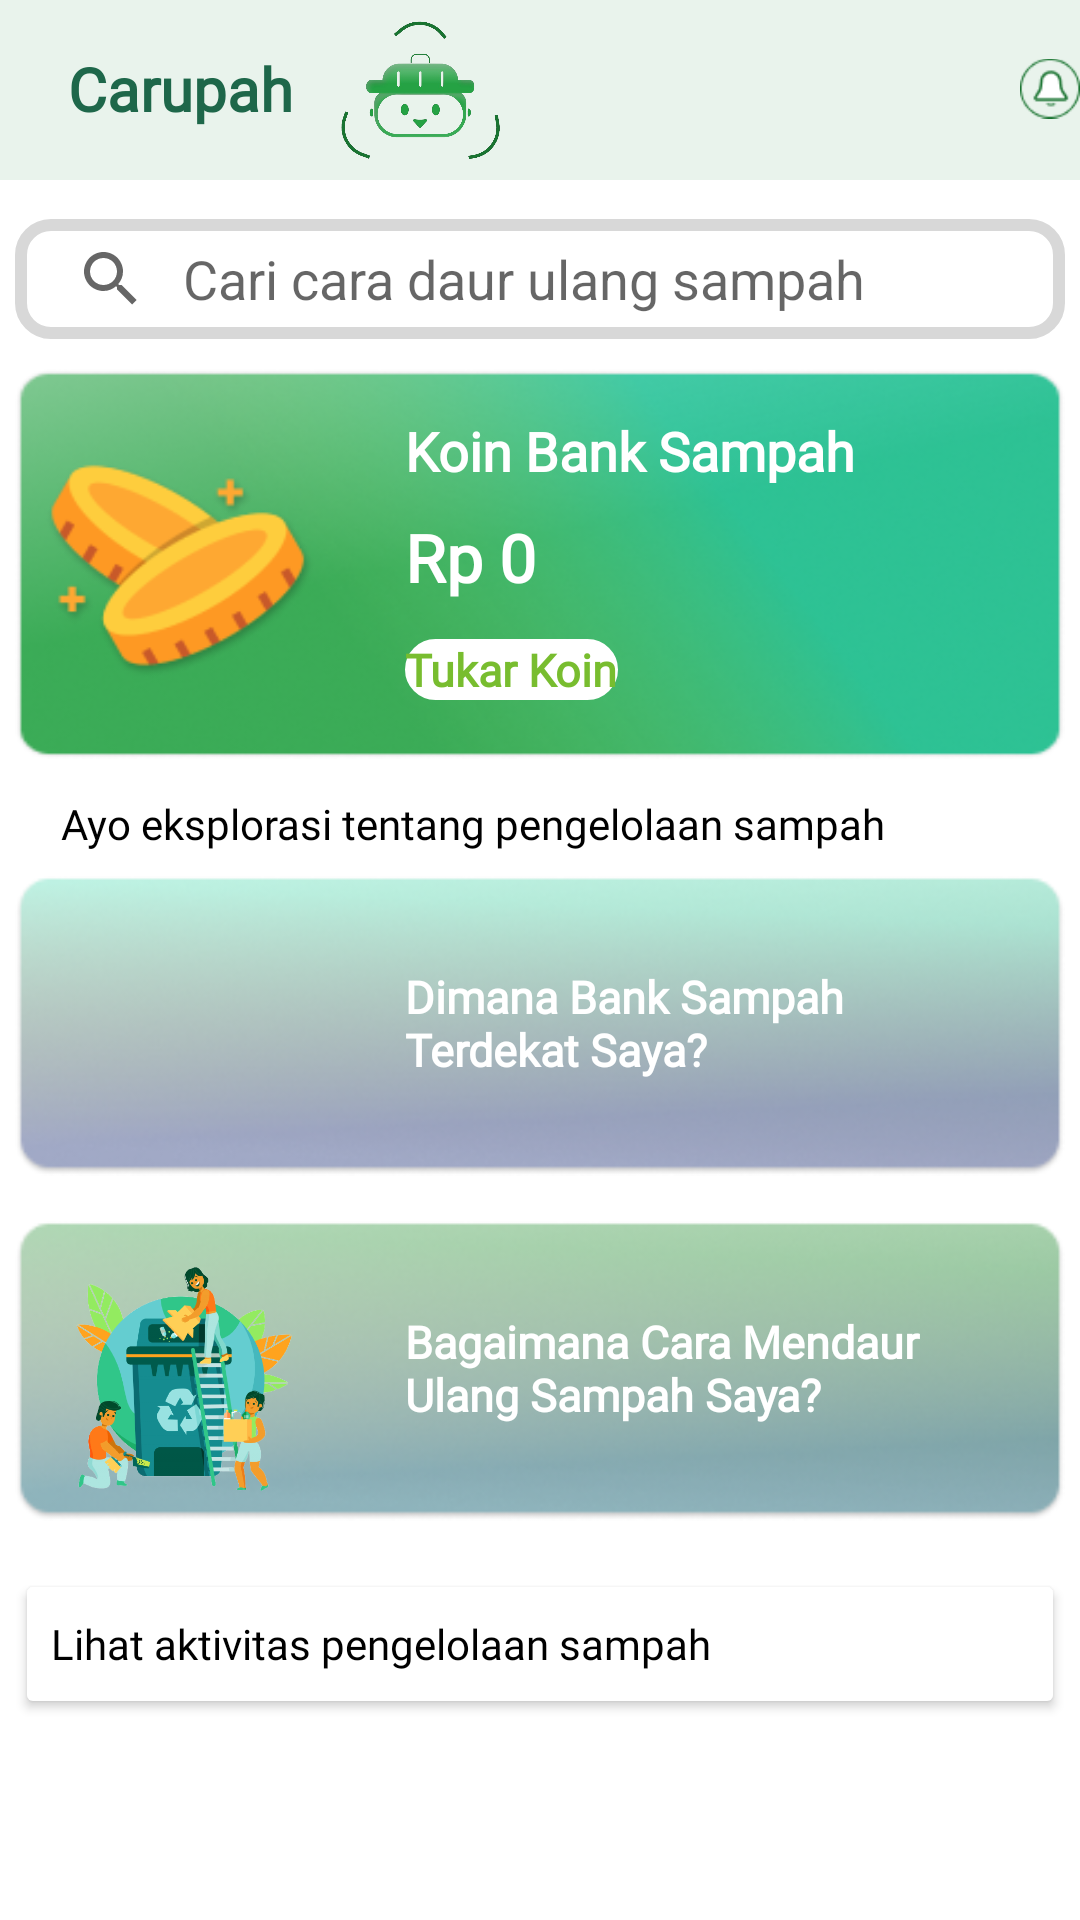

Named icons in this screenshot (1080*1920) and their centers, point (x, y):
bell: point (1050, 89)
coin: point (180, 570)
